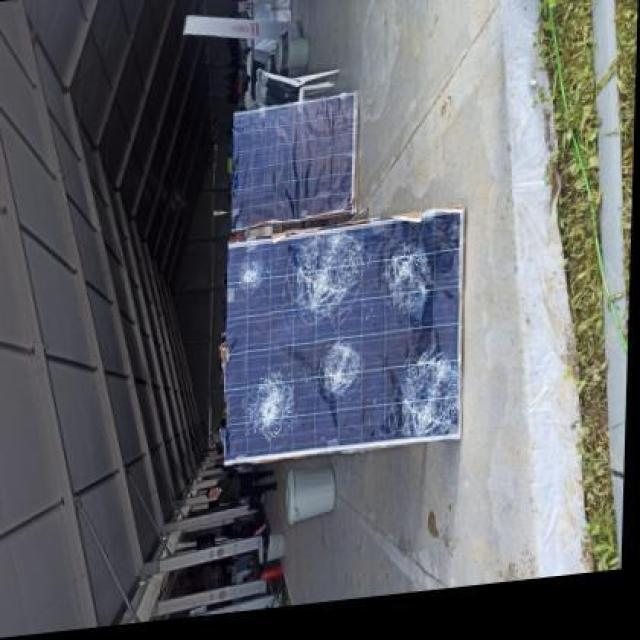cracked: (222, 215, 474, 458)
